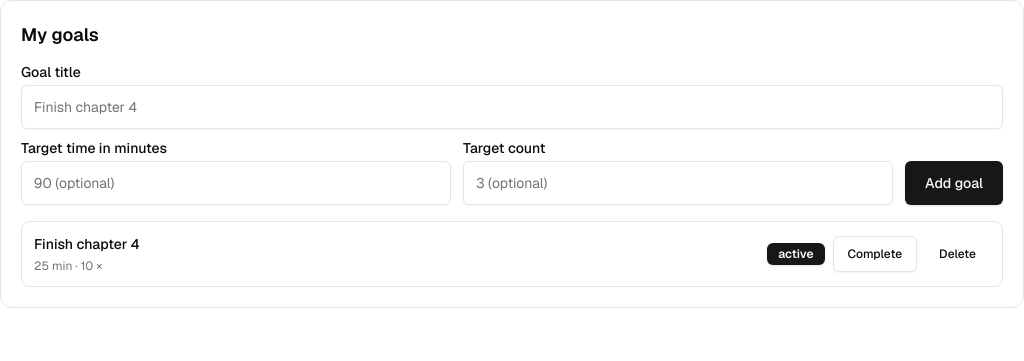
Test case: GoalsPanel › reports a lost connection without changing the list
Click the button "Complete": [875, 254] box [832,236,917,272]
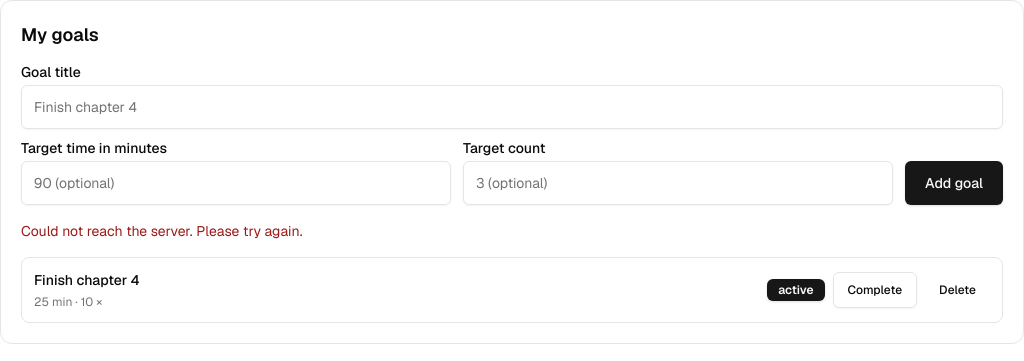
Expected: the text "Finish chapter 4" is shown, [34,270,140,290]
Now the message reads "Could not reach the server. Please try again.", box [21,222,302,240]
